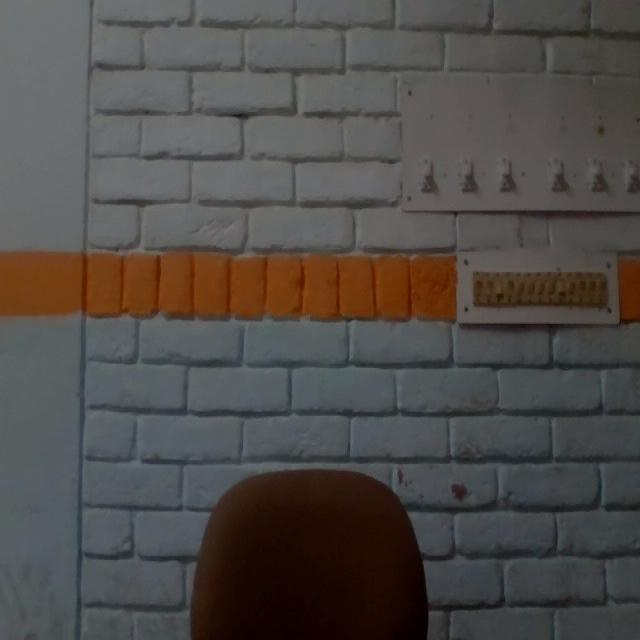away: (4, 3, 637, 630)
